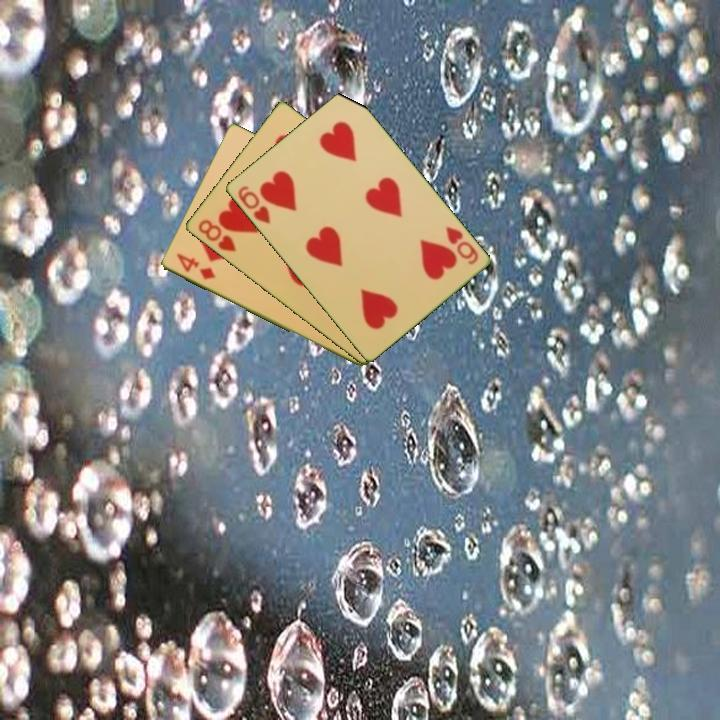4d: (172, 250, 218, 283)
6h: (442, 222, 481, 268), (234, 182, 273, 227)
8h: (194, 216, 239, 255)
